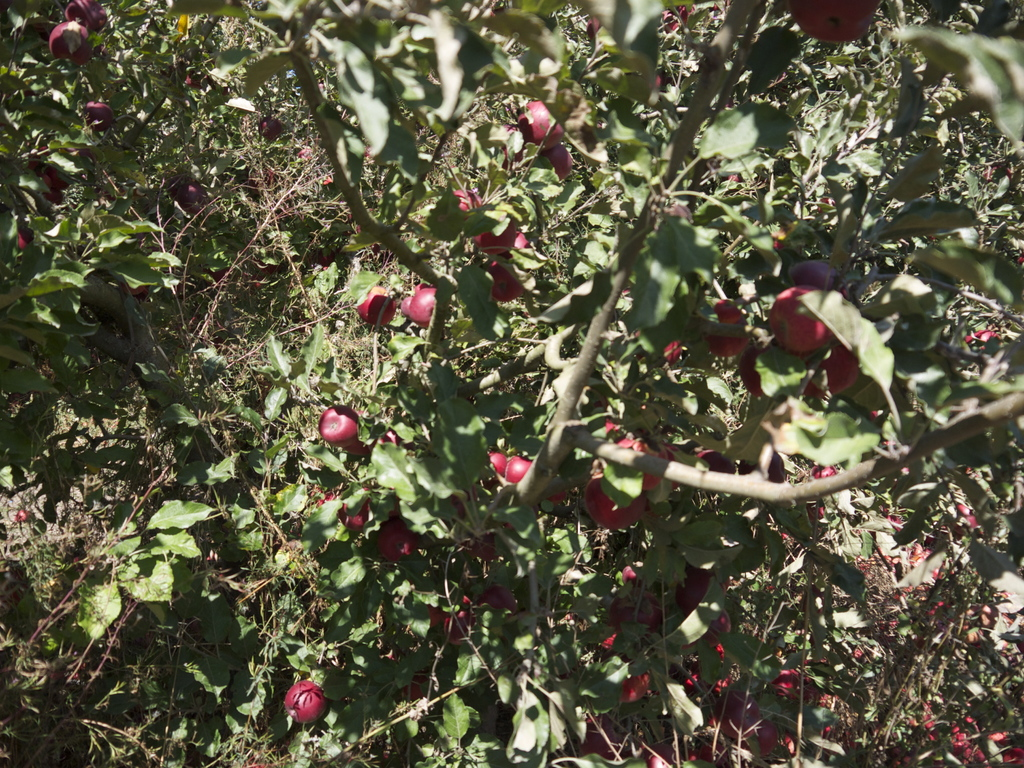Apple: (307, 97, 1023, 767), (15, 0, 288, 297), (785, 0, 877, 46), (284, 680, 325, 722)
